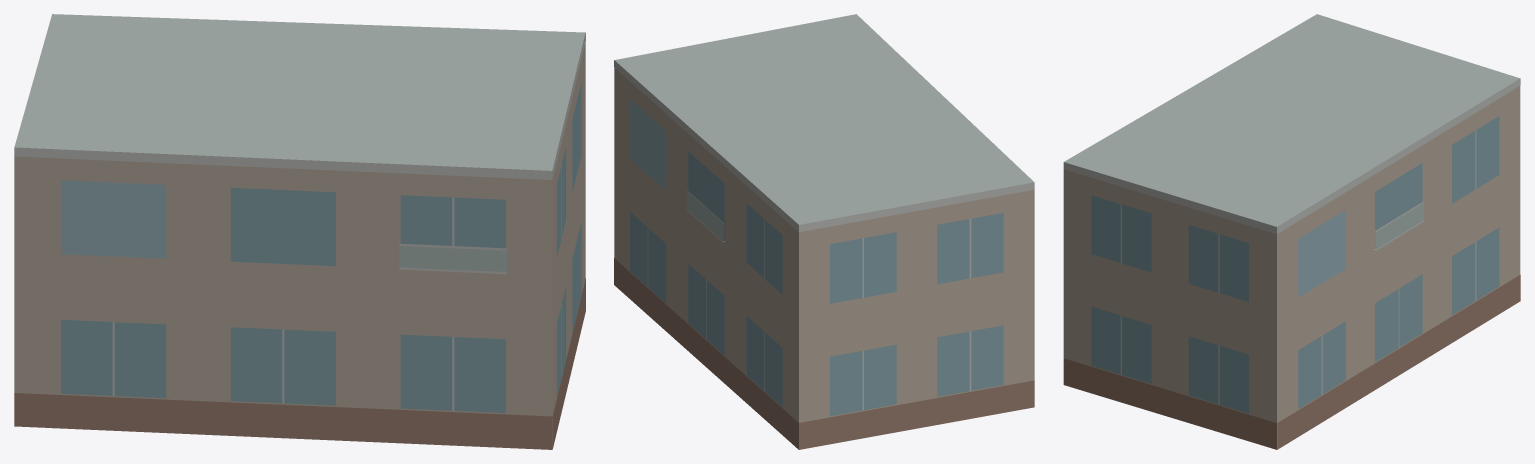
The model's file is survey-upis-32904486.glb.
3 renders of one model, left to right at view 1: azimuth 30°, elevation 25°; view 2: azimuth 150°, elevation 25°; view 3: azimuth 270°, elevation 25°, orthographic. The views are drawn at different scales.
Parts seen in each view (by area): view 1: survey-upis-32904486.tmp; view 2: survey-upis-32904486.tmp; view 3: survey-upis-32904486.tmp.
Boxes of the visible parts, left/top/right/bottom form: survey-upis-32904486.tmp: left=14, top=14, right=585, bottom=449; survey-upis-32904486.tmp: left=614, top=14, right=1034, bottom=449; survey-upis-32904486.tmp: left=1063, top=14, right=1520, bottom=449.
Size of the model in its own units: 15.38 by 7.5 by 13.94.
